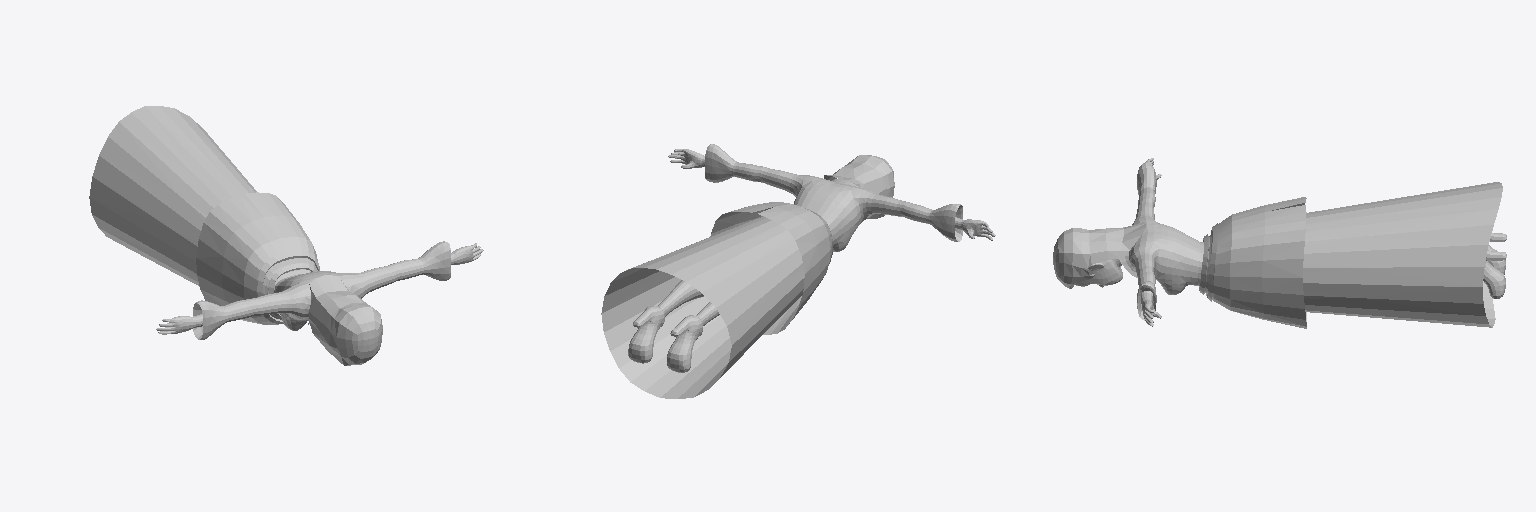
Rendered from ines.obj.
3 views of the same model, side by side, from view 1: azimuth 30°, elevation 25°; view 2: azimuth 150°, elevation 25°; view 3: azimuth 270°, elevation 25° (orthographic).
Parts seen in each view (by area): view 1: Box001, Object001; view 2: Box001, Object001; view 3: Box001, Object001.
Boxes of the visible parts, x1,y1,x2,y2 form: Box001: [89, 106, 483, 339]; Object001: [309, 275, 382, 365]; Box001: [601, 144, 995, 398]; Object001: [824, 155, 894, 218]; Box001: [1075, 158, 1506, 328]; Object001: [1053, 222, 1145, 288].
Size of the model in its own units: 737 by 294 by 886.